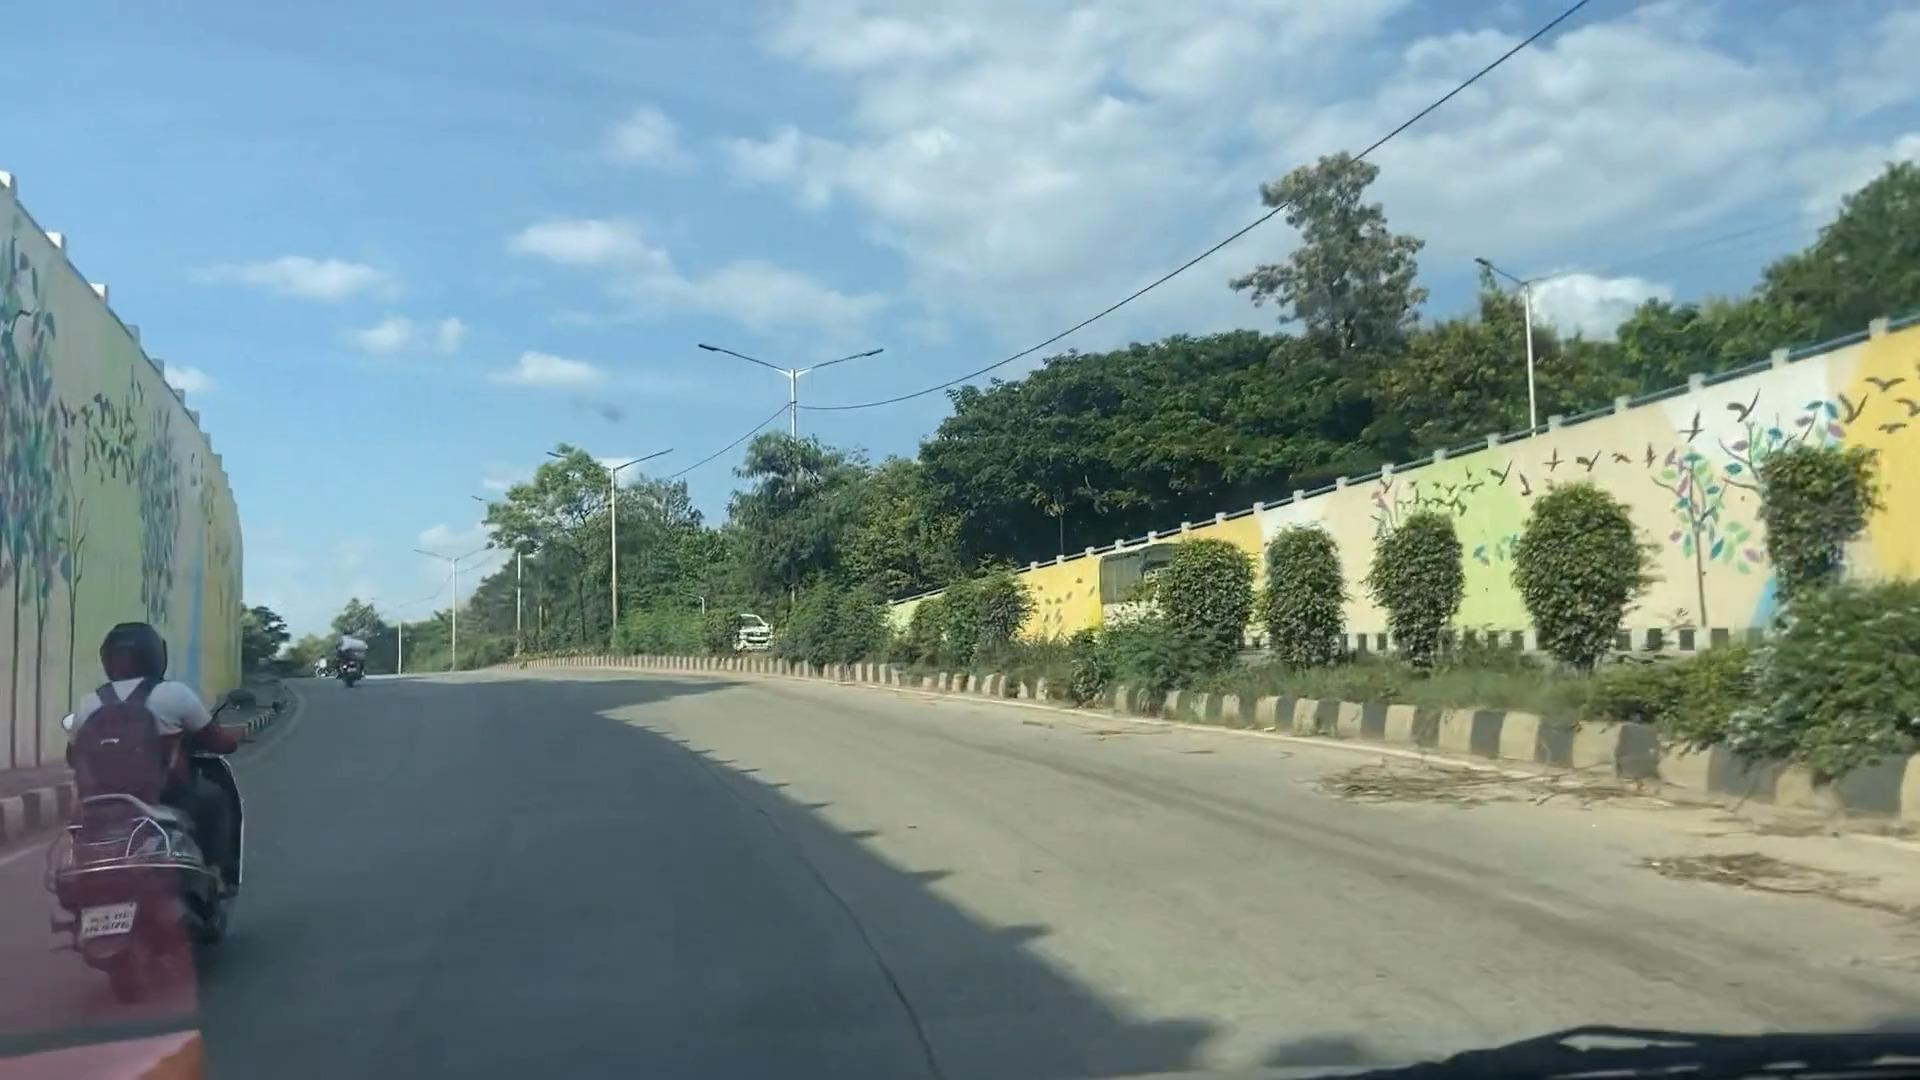LMV: (15, 603, 253, 953)
RoadDamages: (766, 812, 963, 1080)
